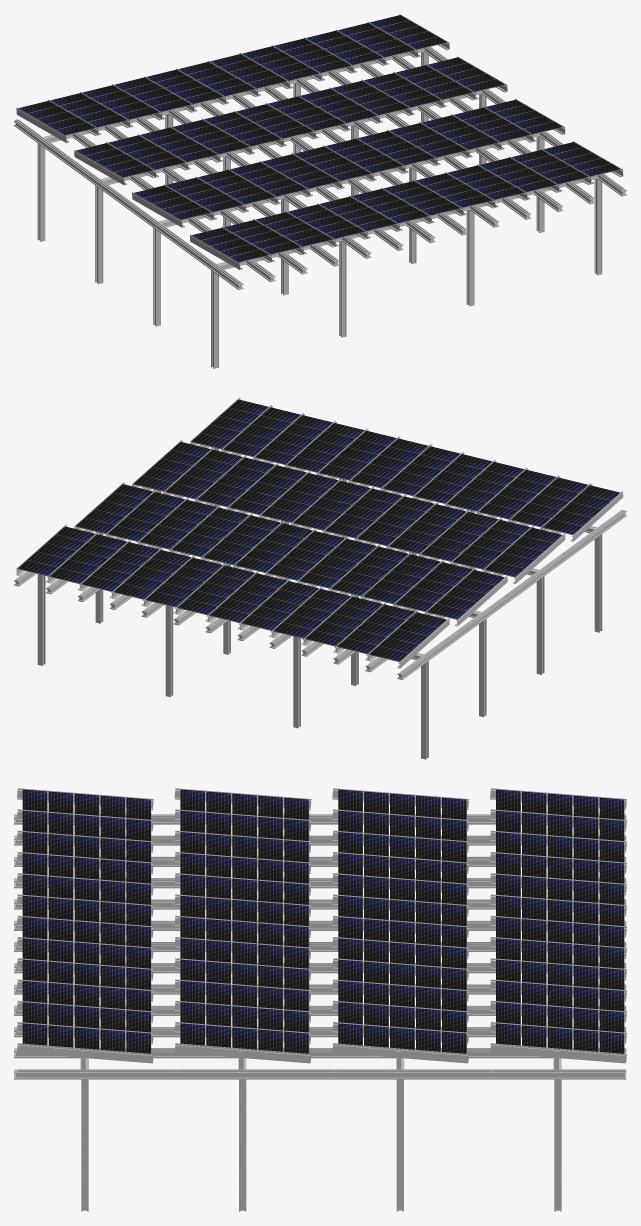
The model's file is Covered_Parking.fbx.
3 renders of one model, top to bottom at view 1: azimuth 30°, elevation 25°; view 2: azimuth 150°, elevation 25°; view 3: azimuth 270°, elevation 25°, orthographic. The views are drawn at different scales.
Visible parts, largest first — view 1: Sun_Unit351, Sun_Unit427, Sun_Unit426, Sun_Unit430, Sun_Unit428, Sun_Unit442, Sun_Unit446, Sun_Unit443, Sun_Unit476, Sun_Unit444, Sun_Unit460, Sun_Unit478 (+41 smaller); view 2: Sun_Unit475, Sun_Unit474, Sun_Unit478, Sun_Unit476, Sun_Unit460, Sun_Unit428, Sun_Unit444, Sun_Unit458, Sun_Unit462, Sun_Unit459, Sun_Unit486, Sun_Unit483 (+40 smaller); view 3: Sun_Unit426, Sun_Unit442, Sun_Unit458, Sun_Unit474, Sun_Unit454, Sun_Unit438, Sun_Unit470, Sun_Unit427, Sun_Unit430, Sun_Unit437, Sun_Unit435, Sun_Unit429 (+36 smaller).
Part boxes in pixels (x1,y1,x2,y2): Sun_Unit351: (39, 48, 597, 269); Sun_Unit427: (415, 172, 499, 306); Sun_Unit426: (542, 141, 626, 275); Sun_Unit430: (286, 203, 371, 337); Sun_Unit428: (190, 227, 275, 282); Sun_Unit442: (483, 98, 565, 232); Sun_Unit446: (229, 161, 309, 295); Sun_Unit443: (356, 130, 437, 264); Sun_Unit476: (16, 100, 98, 147); Sun_Unit444: (132, 184, 213, 232); Sun_Unit460: (74, 142, 156, 189); Sun_Unit478: (112, 76, 194, 184); Sun_Unit475: (141, 555, 225, 697); Sun_Unit474: (14, 524, 97, 665); Sun_Unit478: (269, 587, 353, 728); Sun_Unit476: (365, 610, 449, 672); Sun_Unit460: (425, 568, 507, 626); Sun_Unit428: (541, 483, 623, 541); Sun_Unit444: (483, 525, 565, 583); Sun_Unit458: (74, 482, 155, 623); Sun_Unit462: (330, 544, 411, 685); Sun_Unit459: (202, 513, 283, 654); Sun_Unit486: (46, 532, 129, 594); Sun_Unit483: (173, 563, 257, 625); Sun_Unit426: (14, 1022, 177, 1211); Sun_Unit442: (172, 1022, 336, 1211); Sun_Unit458: (329, 1022, 492, 1211); Sun_Unit474: (487, 1022, 626, 1211); Sun_Unit454: (171, 1001, 336, 1058); Sun_Unit438: (14, 1001, 177, 1058); Sun_Unit470: (329, 1001, 492, 1058); Sun_Unit427: (14, 937, 177, 1068); Sun_Unit430: (14, 852, 177, 909); Sun_Unit437: (14, 979, 177, 1037); Sun_Unit435: (14, 916, 177, 973); Sun_Unit429: (14, 830, 177, 888).
Bounding box in the file's own units: 1009 × 303 × 1011.
Materials: 1 (1 with a texture image).
